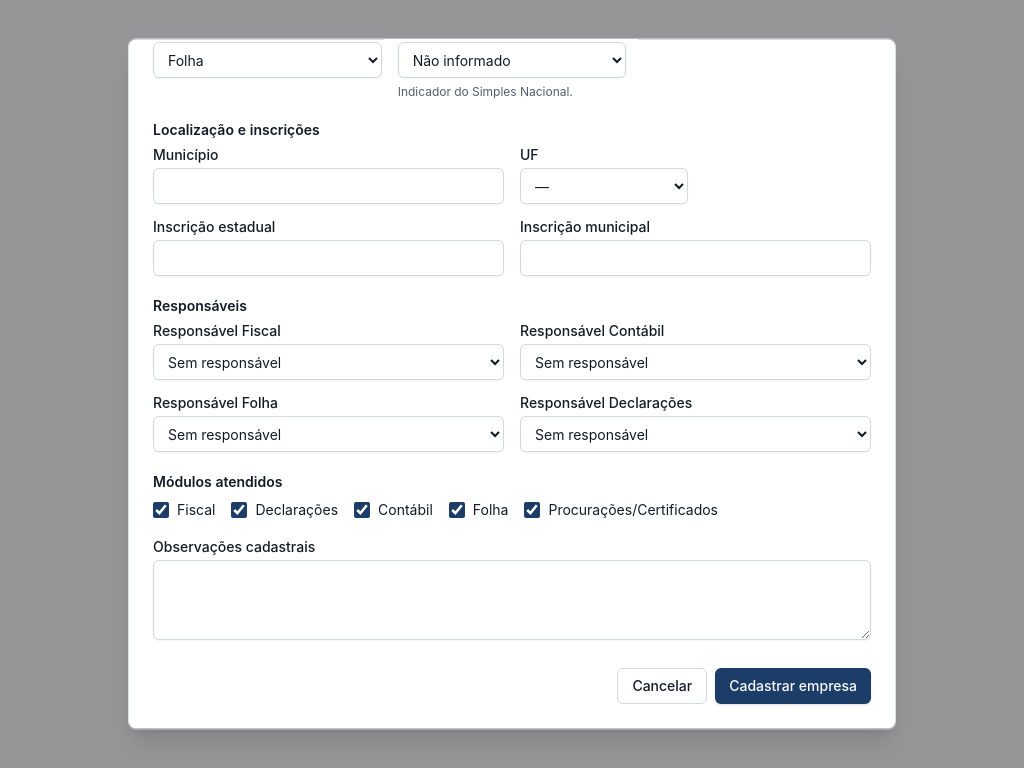
CompanyForm › CA-001 valida os campos obrigatórios antes de enviar
This screenshot has width=1024, height=768.
(page scrolled)
Click the button "Cadastrar empresa": (793, 686) top-left (715, 668), bottom-right (871, 704)
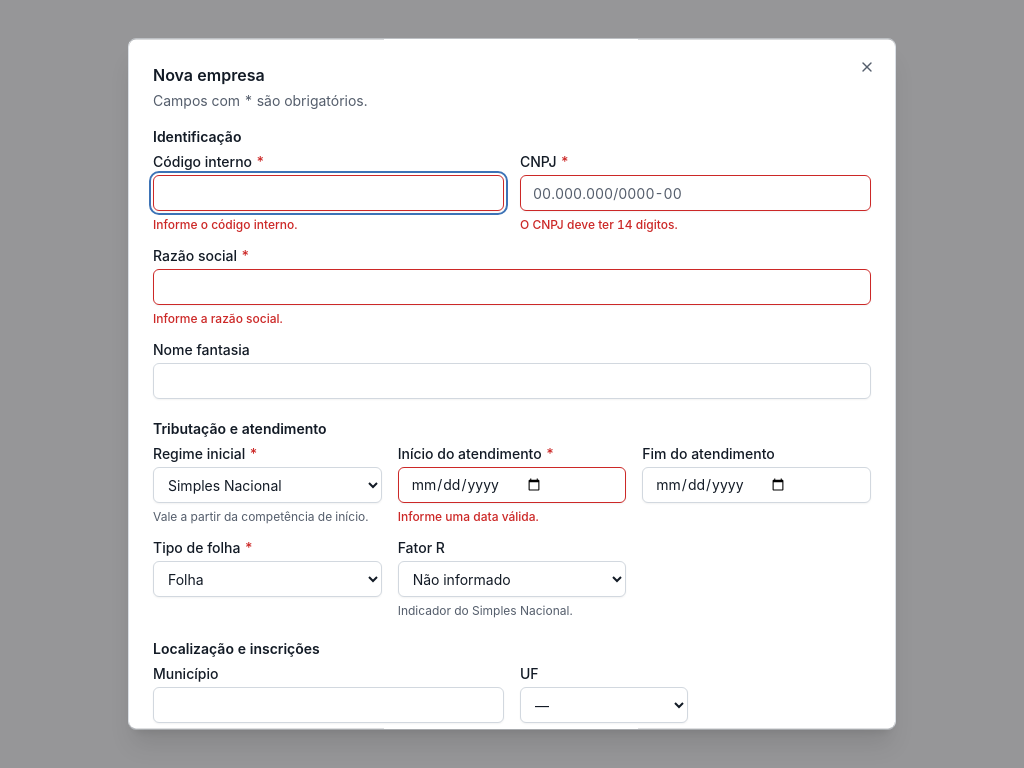
Check: the text "Informe o código interno." is shown, box top-left (153, 217), bottom-right (297, 232)
Check: the text "Informe a razão social." is shown, box top-left (153, 311), bottom-right (283, 326)
Check: the text "O CNPJ deve ter 14 dígitos." is shown, box top-left (520, 217), bottom-right (678, 232)
